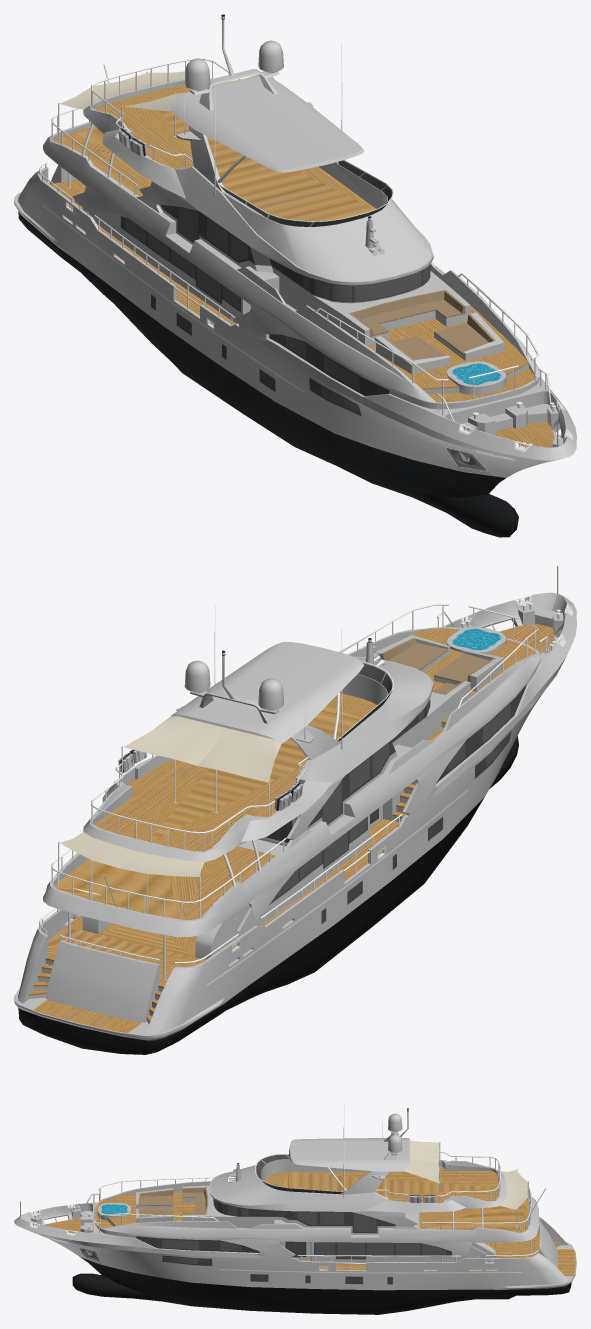
The model's file is yacht.glb.
3 views of the same model, one above another, from view 1: azimuth 30°, elevation 25°; view 2: azimuth 150°, elevation 25°; view 3: azimuth 270°, elevation 25° (orthographic). The views are drawn at different scales.
Visible parts, largest first — view 1: korpus1_01 - Default_0; view 2: korpus1_01 - Default_0; view 3: korpus1_01 - Default_0.
Boxes of the visible parts, <box> form: korpus1_01 - Default_0: <box>14,14,576,537</box>; korpus1_01 - Default_0: <box>14,566,576,1054</box>; korpus1_01 - Default_0: <box>14,1105,576,1314</box>.
Size of the model in its own units: 8.21 by 15.65 by 40.33.
1 material, 1 textured.
